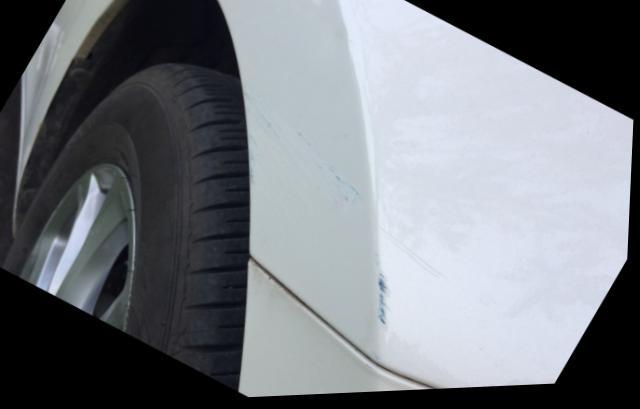scratch: (244, 82, 368, 221), (370, 257, 402, 348)
